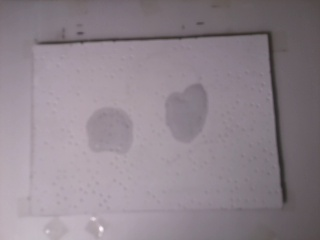Water_detected: (97, 116, 135, 151), (175, 101, 202, 140)
